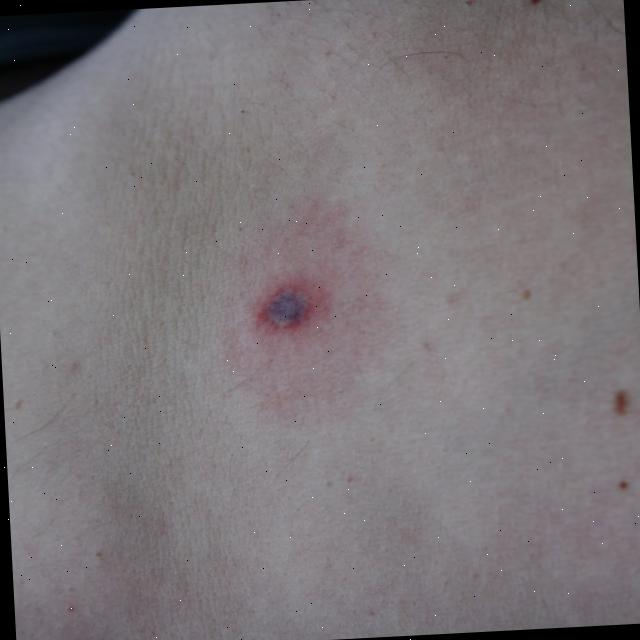kene: (234, 259, 341, 350)
